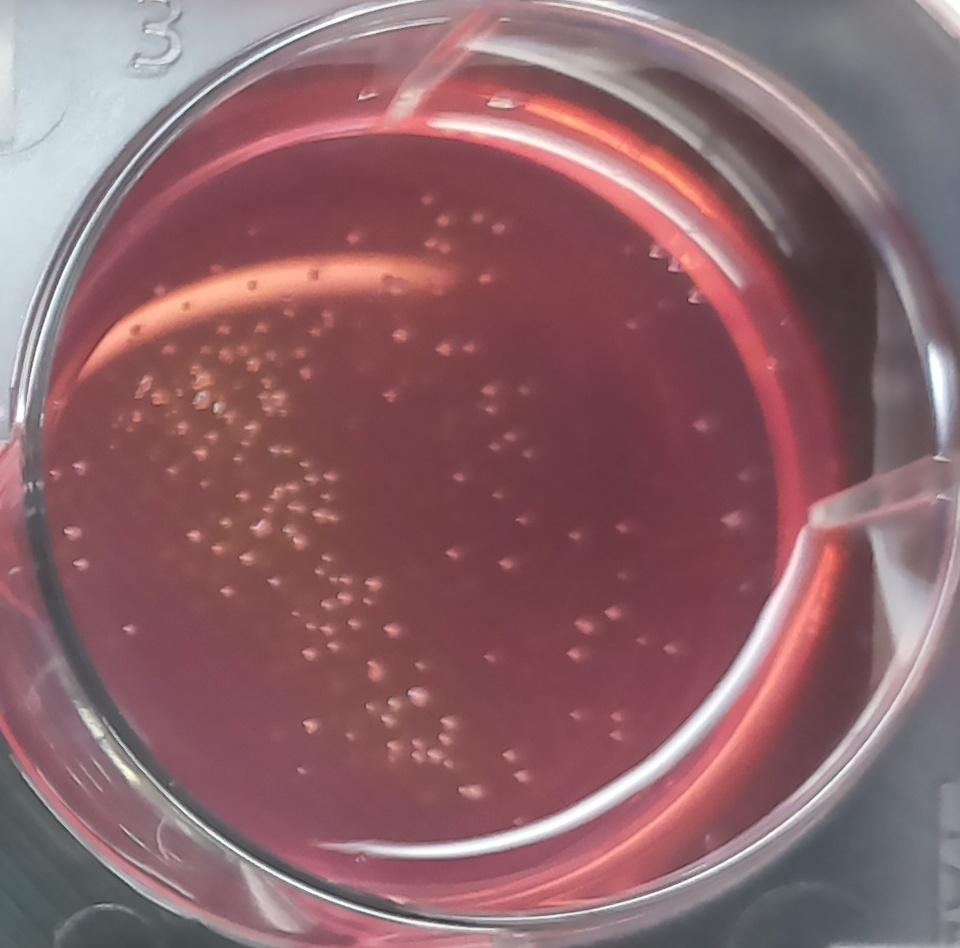staphylo-: (358, 655, 391, 691), (281, 521, 311, 551), (257, 389, 286, 419), (404, 682, 432, 713), (454, 779, 489, 803), (310, 506, 346, 528), (245, 513, 275, 539), (268, 480, 301, 503), (236, 543, 262, 571), (189, 363, 215, 390), (498, 742, 527, 765), (379, 619, 407, 642), (363, 570, 387, 595), (268, 442, 297, 462), (314, 482, 338, 505), (283, 497, 310, 517), (298, 643, 321, 666), (324, 637, 347, 659), (218, 582, 239, 605), (150, 388, 171, 410), (217, 345, 237, 368), (327, 572, 354, 589), (437, 713, 459, 733), (232, 487, 254, 507), (192, 390, 211, 412), (258, 500, 279, 519), (218, 514, 239, 533), (345, 615, 364, 636), (210, 540, 230, 559), (264, 573, 284, 592), (174, 419, 193, 439), (322, 468, 342, 487), (337, 589, 357, 608), (191, 444, 210, 463), (244, 355, 263, 374), (320, 621, 340, 639), (185, 527, 203, 546), (204, 427, 223, 445), (232, 452, 251, 468), (302, 470, 321, 486), (301, 619, 322, 633), (243, 419, 261, 435), (298, 366, 314, 384), (263, 347, 279, 364), (292, 344, 308, 361), (298, 455, 315, 471), (361, 594, 377, 611), (288, 607, 304, 623), (223, 407, 237, 424), (320, 551, 335, 566), (241, 437, 254, 451)
